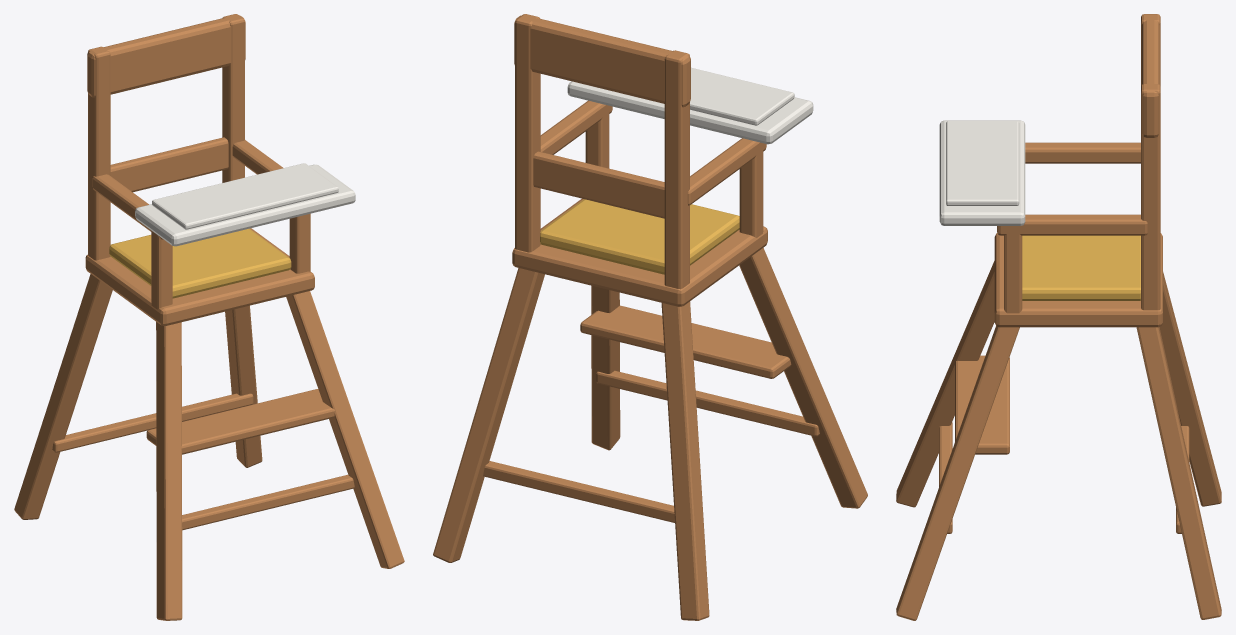
The model's file is hh_cat_high_chair.glb.
The picture shows the model from 3 angles, left to right: view 1: azimuth 30°, elevation 25°; view 2: azimuth 150°, elevation 25°; view 3: azimuth 270°, elevation 25°; orthographic projection. The views are drawn at different scales.
Parts seen in each view (by area): view 1: leg, leg.002, cushion, back_rail, leg.001, front_table_lip, seat, footrest, back_post, front_table, back_slat, leg.003 (+7 smaller); view 2: leg.001, leg.003, back_rail, cushion, leg, seat, footrest, back_post, back_post.001, back_slat, front_table, front_table_lip (+7 smaller); view 3: cushion, leg.002, leg.003, front_table_lip, seat, leg, leg.001, back_post.001, front_table, footrest, arm.001, arm (+3 smaller).
Part boxes in pixels (x1,y1,x2,y2): leg: [156, 322, 182, 620]; leg.002: [286, 291, 404, 568]; cushion: [109, 228, 291, 298]; back_rail: [87, 15, 245, 97]; leg.001: [14, 274, 112, 519]; front_table_lip: [152, 163, 338, 229]; seat: [85, 228, 314, 325]; footrest: [146, 389, 334, 454]; back_post: [88, 46, 110, 260]; front_table: [135, 164, 355, 246]; back_slat: [110, 137, 228, 192]; leg.003: [225, 305, 262, 467]; leg.001: [661, 301, 709, 620]; leg.003: [433, 268, 544, 562]; back_rail: [514, 15, 690, 107]; cushion: [540, 199, 739, 274]; leg: [739, 247, 867, 508]; seat: [512, 198, 767, 306]; footrest: [580, 305, 791, 378]; back_post: [664, 50, 689, 289]; back_post.001: [515, 14, 540, 252]; back_slat: [533, 151, 664, 218]; front_table: [567, 81, 813, 144]; front_table_lip: [690, 67, 794, 125]; cushion: [1022, 235, 1140, 300]; leg.002: [896, 326, 1019, 620]; leg.003: [1136, 327, 1221, 619]; front_table_lip: [946, 121, 1019, 205]; seat: [994, 233, 1162, 327]; leg: [896, 261, 994, 507]; leg.001: [1159, 272, 1221, 506]; back_post.001: [1141, 84, 1160, 310]; front_table: [939, 120, 1025, 225]; footrest: [955, 355, 1009, 454]; arm.001: [997, 214, 1147, 235]; arm: [1025, 142, 1140, 163].
Bounding box in the file's own units: 0.5 × 0.95 × 0.55.
